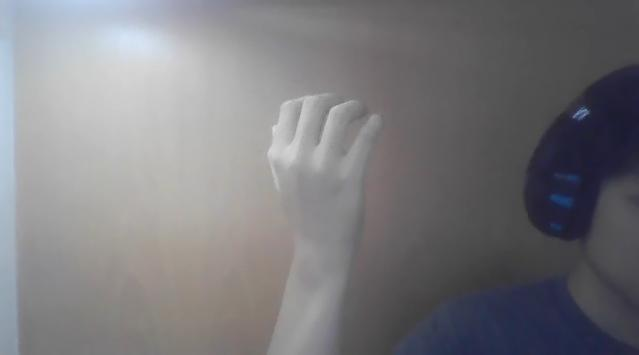backword: (254, 84, 400, 272)
